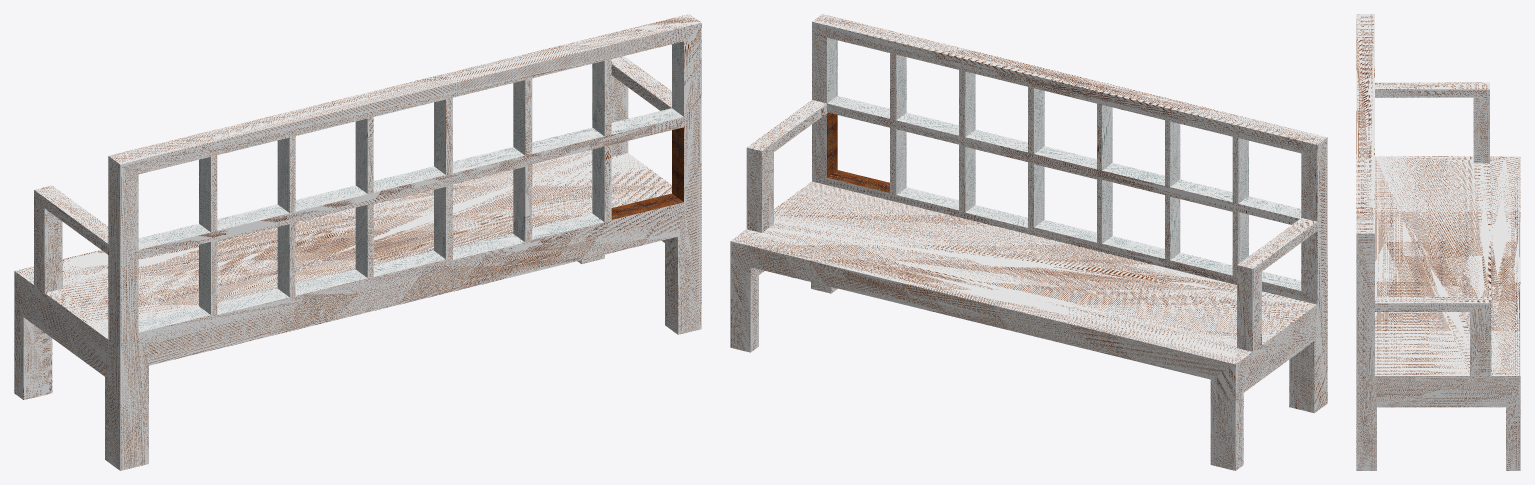
3 views of the same model, side by side, from view 1: azimuth 30°, elevation 25°; view 2: azimuth 150°, elevation 25°; view 3: azimuth 270°, elevation 25° (orthographic). The views are drawn at different scales.
Parts seen in each view (by area): view 1: mesh1_mesh1-geometry; view 2: mesh1_mesh1-geometry; view 3: mesh1_mesh1-geometry.
Part boxes in pixels (left/top/right/bottom): mesh1_mesh1-geometry: left=14, top=14, right=701, bottom=470; mesh1_mesh1-geometry: left=730, top=14, right=1327, bottom=470; mesh1_mesh1-geometry: left=1356, top=14, right=1520, bottom=470.
Bounding box in the file's own units: 0.8596 × 0.4329 × 0.2714.
